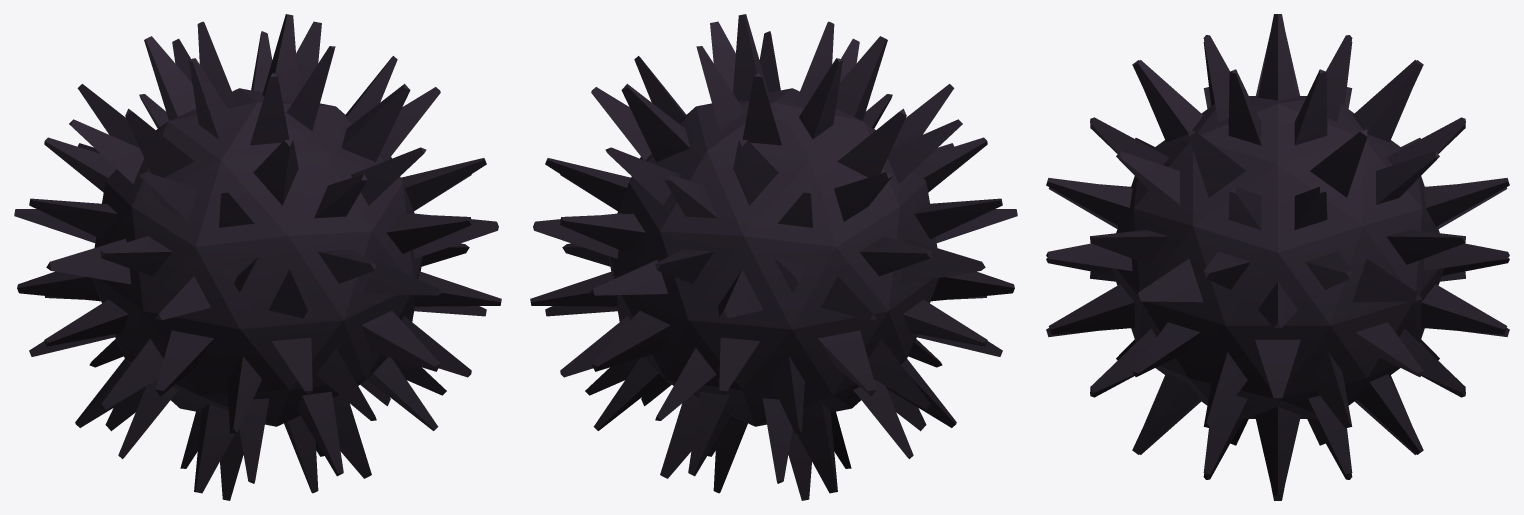
Rendered from sea_urchin.glb.
3 views of the same model, side by side, from view 1: azimuth 30°, elevation 25°; view 2: azimuth 150°, elevation 25°; view 3: azimuth 270°, elevation 25° (orthographic).
Parts seen in each view (by area): view 1: sea_urchin_merged; view 2: sea_urchin_merged; view 3: sea_urchin_merged.
Part boxes in pixels (left/top/right/bottom): sea_urchin_merged: left=14, top=14, right=501, bottom=500; sea_urchin_merged: left=530, top=14, right=1017, bottom=500; sea_urchin_merged: left=1046, top=14, right=1509, bottom=500.
Bounding box in the file's own units: 2.86 × 2.76 × 2.73.
Materials: 1 (1 with a texture image).
